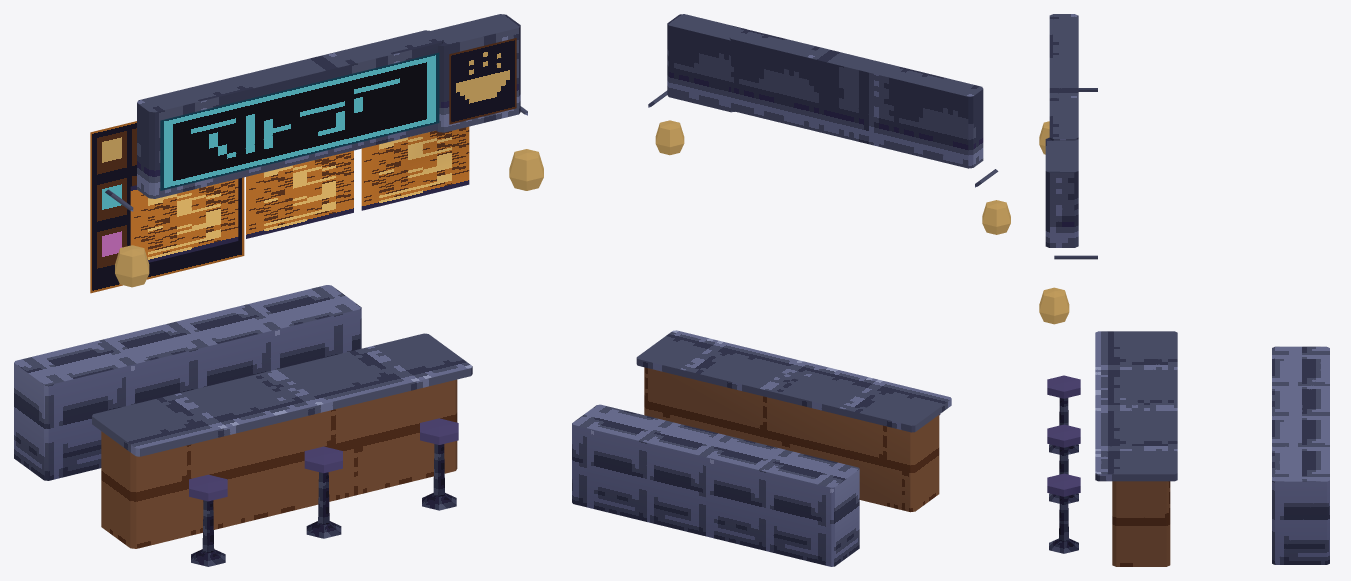
The model's file is cysign.noodle.glb.
The picture shows the model from 3 angles, left to right: view 1: azimuth 30°, elevation 25°; view 2: azimuth 150°, elevation 25°; view 3: azimuth 270°, elevation 25°; orthographic projection. The views are drawn at different scales.
Visible parts, largest first — view 1: kit_counter, kit_card_cards, kit_stools; view 2: kit_counter, kit_stools; view 3: kit_counter, kit_stools.
Part boxes in pixels (left/top/right/bottom): kit_counter: left=14, top=14, right=520, bottom=548; kit_card_cards: left=90, top=38, right=516, bottom=293; kit_stools: left=105, top=106, right=543, bottom=566; kit_counter: left=572, top=14, right=983, bottom=566; kit_stools: left=648, top=90, right=1010, bottom=415; kit_counter: left=1045, top=14, right=1329, bottom=566; kit_stools: left=1039, top=88, right=1097, bottom=553.
Bounding box in the file's own units: 4.46 × 4.64 × 3.08.
11 materials, 11 textured.
